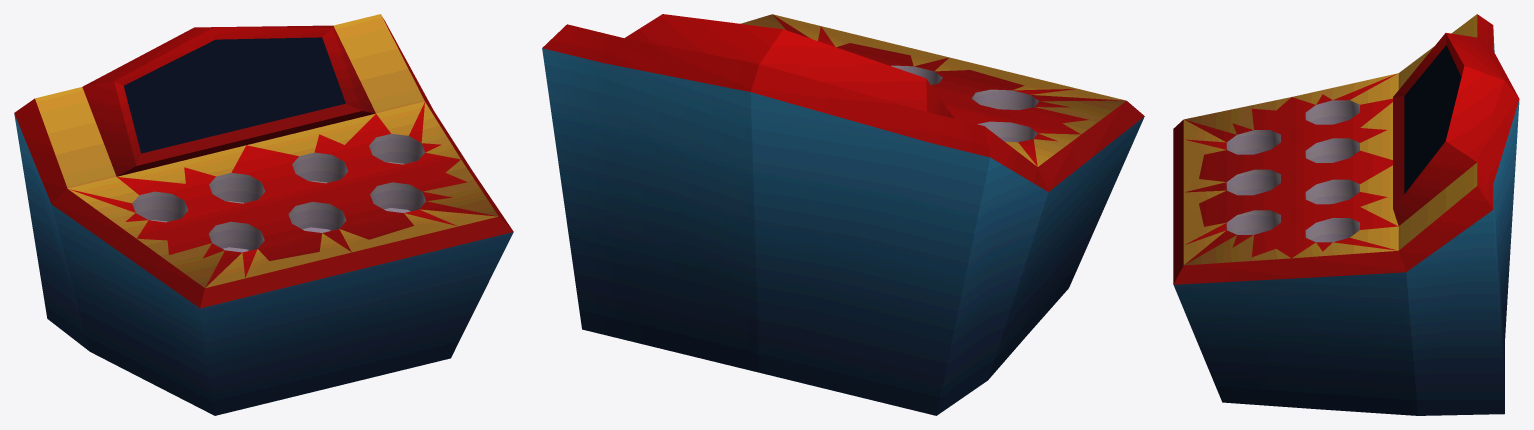
File: SM_WAMTable (3).fbx
The picture shows the model from 3 angles, left to right: view 1: azimuth 30°, elevation 25°; view 2: azimuth 150°, elevation 25°; view 3: azimuth 270°, elevation 25°; orthographic projection. The views are drawn at different scales.
Parts seen in each view (by area): view 1: SM_WAMTable; view 2: SM_WAMTable; view 3: SM_WAMTable.
Boxes of the visible parts, x1,y1,x2,y2 form: SM_WAMTable: (14, 14, 513, 415); SM_WAMTable: (542, 14, 1144, 415); SM_WAMTable: (1173, 14, 1519, 415).
Size of the model in its own units: 156 by 106 by 120.
